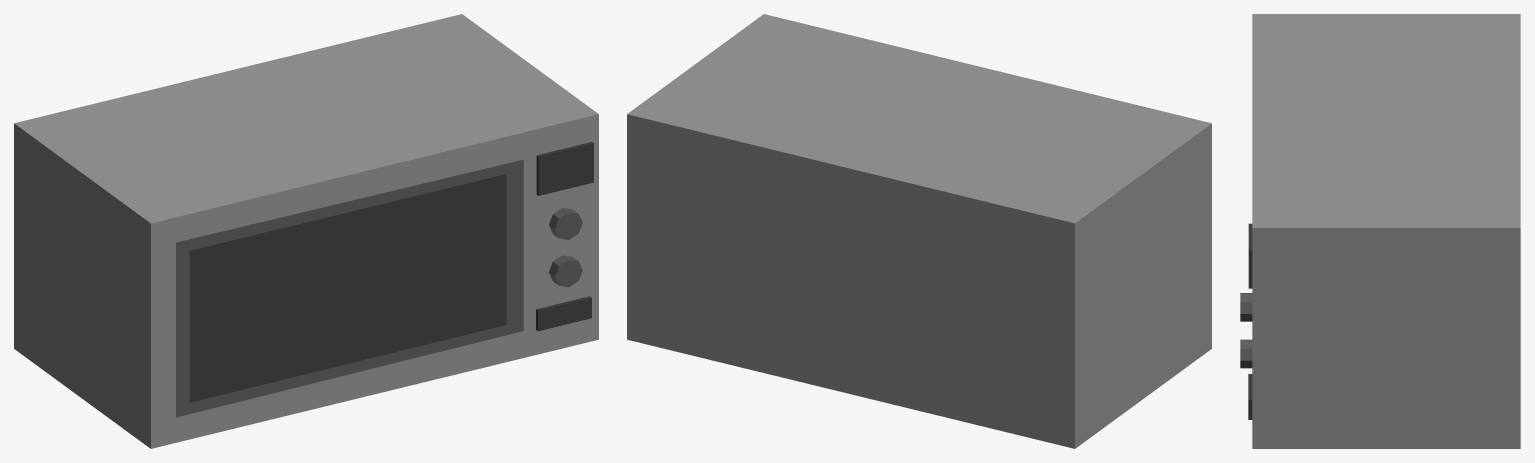
The model's file is Microwave.fbx.
3 views of the same model, side by side, from view 1: azimuth 30°, elevation 25°; view 2: azimuth 150°, elevation 25°; view 3: azimuth 270°, elevation 25° (orthographic). The views are drawn at different scales.
Parts seen in each view (by area): view 1: Microwave; view 2: Microwave; view 3: Microwave.
Part boxes in pixels (<box>): Microwave: <box>14,14,598,448</box>; Microwave: <box>627,14,1211,448</box>; Microwave: <box>1240,14,1520,448</box>.
Bounding box in the file's own units: 113 × 62.6 × 54.44.
